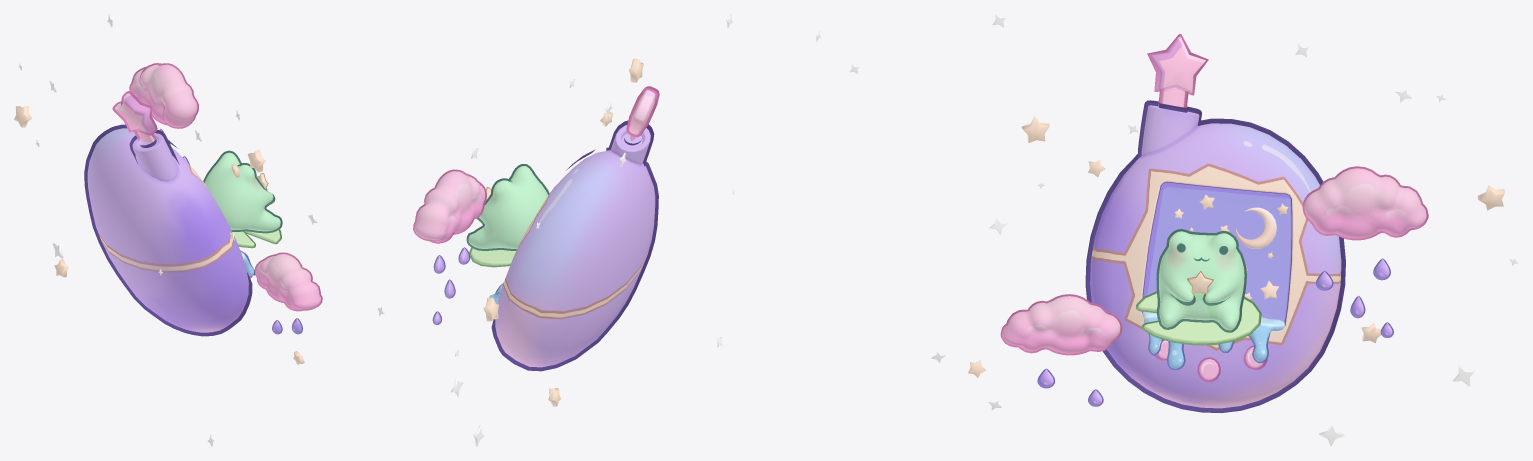
Rendered from frog.glb.
3 views of the same model, side by side, from view 1: azimuth 30°, elevation 25°; view 2: azimuth 150°, elevation 25°; view 3: azimuth 270°, elevation 25° (orthographic). The views are drawn at different scales.
Visible parts, largest first — view 1: pSphere1, frog:Group27641, polySurface4, polySurface5, pSphere9, pCylinder1, pCylinder2, polySurface14, Group27641, pCylinder6, pCylinder21; view 2: pSphere1, frog:Group27641, polySurface4, pSphere9, pCylinder1, pCylinder2, pCylinder6, polySurface14, Group27641, pCylinder21, pSphere10; view 3: pSphere1, frog:Group27641, polySurface4, polySurface5, pSphere9, pCylinder6, pCylinder1, pCylinder2, polySurface14, water:Group54425, Group27641, pSphere10 (+2 smaller).
Part boxes in pixels (bbox=[...]): pSphere1: bbox=[87, 128, 248, 332]; frog:Group27641: bbox=[204, 152, 280, 231]; polySurface4: bbox=[131, 64, 197, 127]; polySurface5: bbox=[256, 254, 321, 309]; pSphere9: bbox=[84, 124, 252, 336]; pCylinder1: bbox=[132, 133, 177, 181]; pCylinder2: bbox=[115, 93, 155, 133]; polySurface14: bbox=[129, 63, 322, 311]; Group27641: bbox=[203, 150, 282, 233]; pCylinder6: bbox=[232, 230, 280, 246]; pCylinder21: bbox=[112, 91, 157, 140]; pSphere1: bbox=[495, 150, 655, 367]; frog:Group27641: bbox=[468, 166, 548, 248]; polySurface4: bbox=[414, 171, 485, 241]; pSphere9: bbox=[491, 120, 658, 371]; pCylinder1: bbox=[611, 125, 650, 164]; pCylinder2: bbox=[629, 88, 656, 134]; pCylinder6: bbox=[471, 248, 515, 265]; polySurface14: bbox=[413, 169, 486, 243]; Group27641: bbox=[466, 164, 549, 250]; pCylinder21: bbox=[626, 86, 659, 137]; pSphere10: bbox=[434, 248, 468, 323]; pSphere1: bbox=[1090, 123, 1341, 408]; frog:Group27641: bbox=[1159, 231, 1244, 330]; polySurface4: bbox=[1304, 168, 1426, 238]; polySurface5: bbox=[1002, 296, 1120, 353]; pSphere9: bbox=[1085, 100, 1345, 412]; pCylinder6: bbox=[1138, 293, 1259, 343]; pCylinder1: bbox=[1141, 105, 1199, 156]; pCylinder2: bbox=[1150, 36, 1205, 92]; polySurface14: bbox=[1000, 166, 1428, 355]; water:Group54425: bbox=[1142, 311, 1284, 368]; Group27641: bbox=[1156, 229, 1246, 332]; pSphere10: bbox=[1038, 259, 1392, 405].
Size of the model in its own units: 0.5551 by 0.906 by 1.41.
10 materials, 1 textured.
